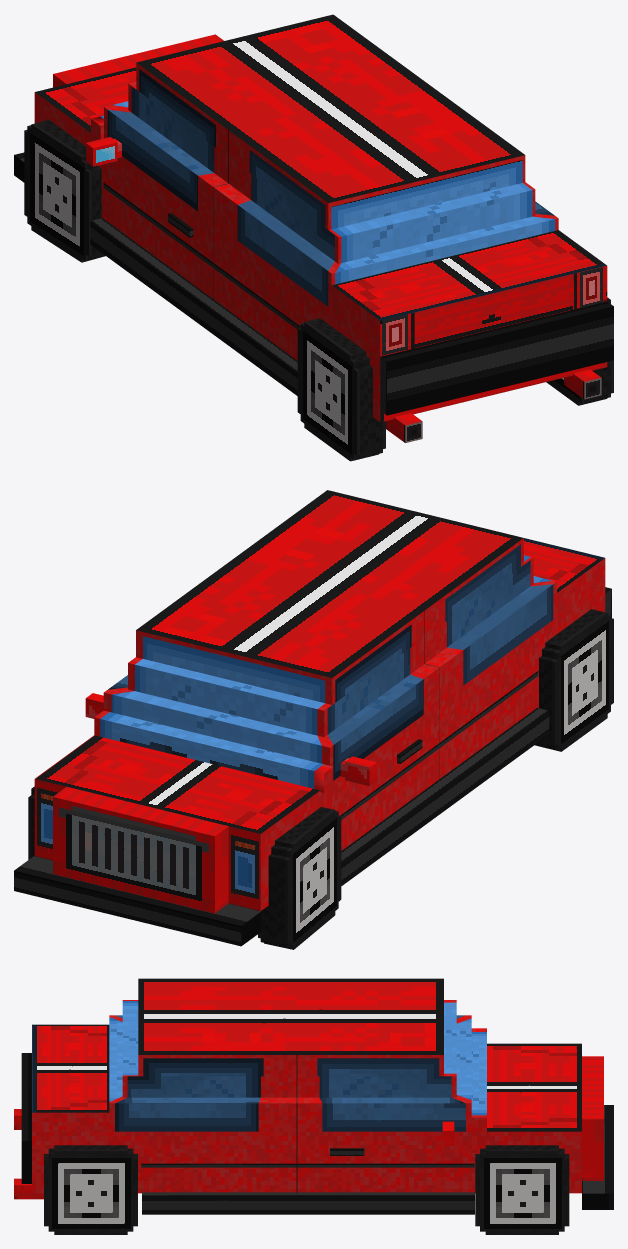
The model's file is BGN_RED CAR.fbx.
3 views of the same model, one above another, from view 1: azimuth 30°, elevation 25°; view 2: azimuth 150°, elevation 25°; view 3: azimuth 270°, elevation 25° (orthographic). The views are drawn at different scales.
Visible parts, largest first — view 1: BGN_RED_CAR, Cube__65_, Cube__62_, Cube__66_; view 2: BGN_RED_CAR, Cube__62_, Cube__65_; view 3: BGN_RED_CAR, Cube__64_, Cube__66_.
Boxes of the visible parts, box(x1,y1,x2,y2) form: BGN_RED_CAR: box(14, 14, 613, 442); Cube__65_: box(297, 318, 385, 461); Cube__62_: box(24, 119, 105, 262); Cube__66_: box(546, 297, 613, 405); BGN_RED_CAR: box(14, 490, 611, 946); Cube__62_: box(258, 807, 341, 949); Cube__65_: box(534, 609, 613, 751); BGN_RED_CAR: box(14, 978, 613, 1214); Cube__64_: box(475, 1145, 569, 1234); Cube__66_: box(44, 1145, 137, 1234).
Bounding box in the file's own units: 166 × 119 × 381.
